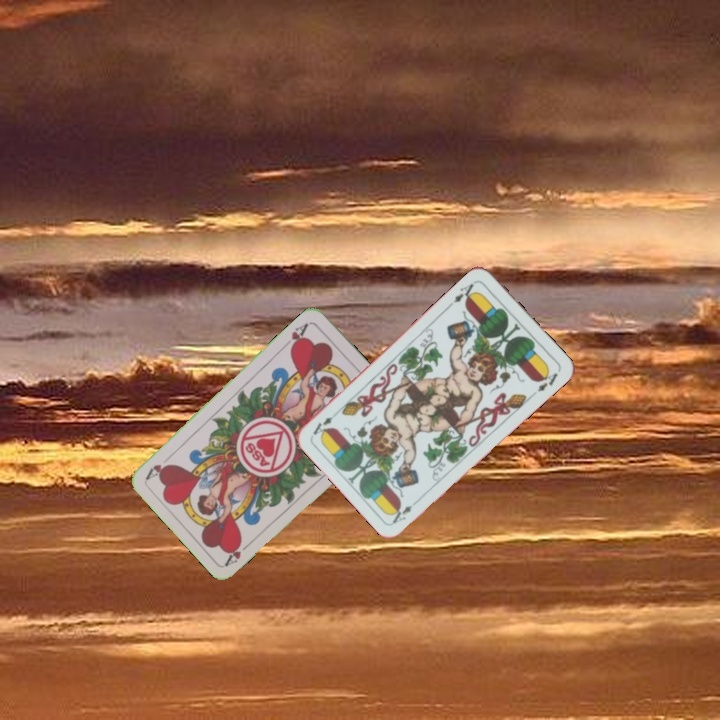EA: (445, 277, 479, 309), (387, 495, 422, 526)
HA: (279, 318, 311, 353), (221, 536, 255, 568)
